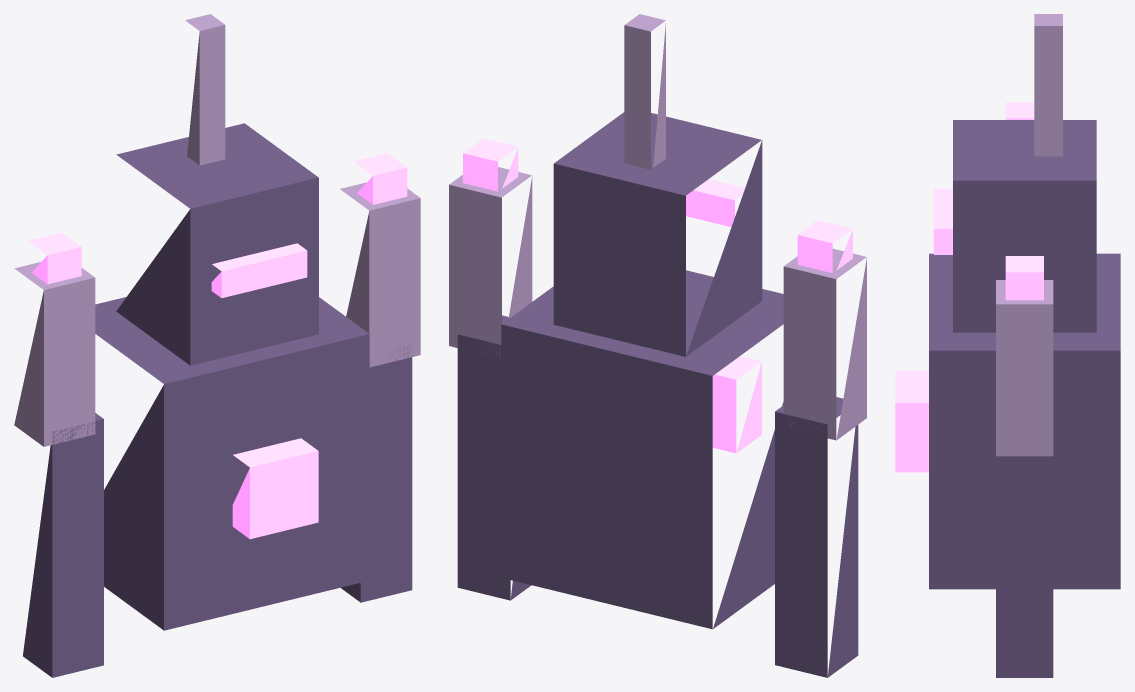
The model's file is golem_aether_03.glb.
3 renders of one model, left to right at view 1: azimuth 30°, elevation 25°; view 2: azimuth 150°, elevation 25°; view 3: azimuth 270°, elevation 25°, orthographic. The views are drawn at different scales.
Visible parts, largest first — view 1: AetherObsidian, AetherRunic, AetherGlow; view 2: AetherObsidian, AetherRunic, AetherGlow; view 3: AetherObsidian, AetherRunic, AetherGlow.
Part boxes in pixels (x1,y1,x2,y2): AetherObsidian: [23, 123, 412, 677]; AetherRunic: [14, 14, 420, 446]; AetherGlow: [28, 153, 407, 539]; AetherObsidian: [457, 112, 858, 677]; AetherRunic: [449, 14, 866, 440]; AetherGlow: [463, 138, 852, 453]; AetherObsidian: [929, 120, 1120, 677]; AetherRunic: [996, 14, 1062, 456]; AetherGlow: [895, 102, 1043, 472].
Size of the model in its own units: 0.88 by 1.32 by 0.47.
